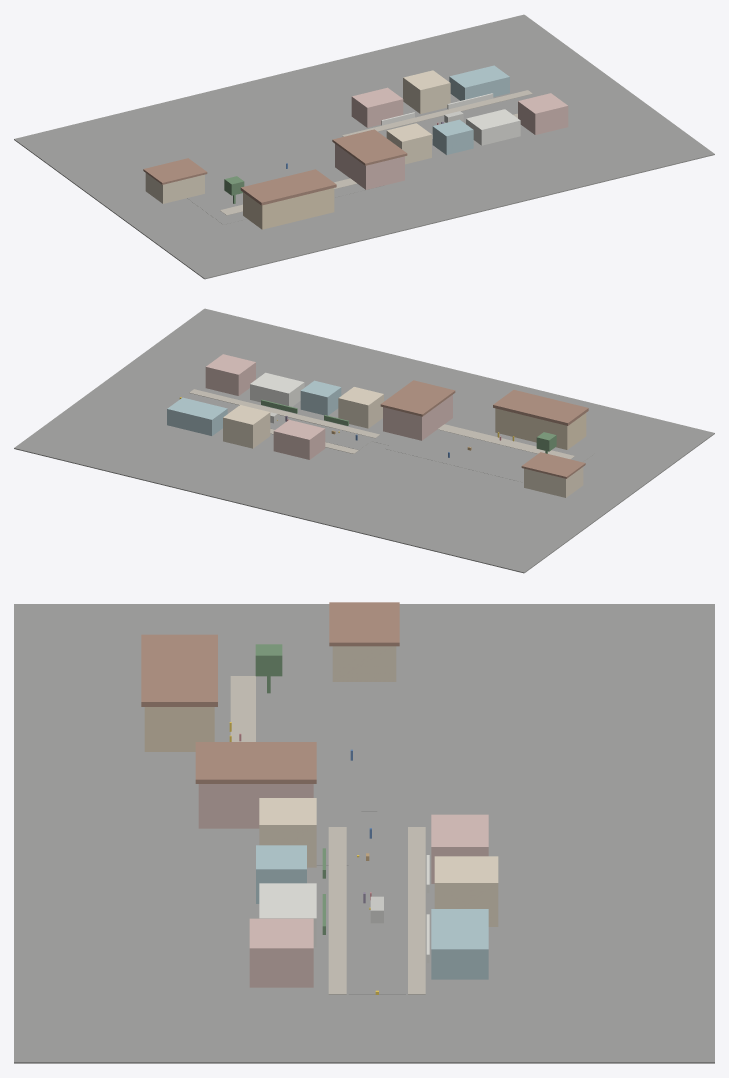
The model's file is ouverture-centre-ville.gltf.
The picture shows the model from 3 angles, top to bottom: view 1: azimuth 30°, elevation 25°; view 2: azimuth 150°, elevation 25°; view 3: azimuth 270°, elevation 25°; orthographic projection. The views are drawn at different scales.
Visible parts, largest first — view 1: ground, school_square, school_main, school_roof, alley_corner_mask, alley_house_south_2, alley_house_recent, alley_house_south_3, alley_corner_roof, alley_house_south_1, alley_house_1970, alley_house_1900 (+5 smaller); view 2: ground, school_square, school_main, school_roof, alley_corner_mask, alley_house_south_2, alley_house_south_3, alley_house_recent, alley_house_south_1, alley_corner_roof, alley_house_1900, alley_house_1970 (+7 smaller); view 3: ground, school_square, alley_road, school_roof, alley_corner_roof, alley_house_recent, alley_house_south_3, alley_house_south_2, alley_corner_mask, square_shop_west_roof, alley_sidewalk_north, alley_sidewalk_south (+9 smaller).
Part boxes in pixels (x1,y1,x2,y2): ground: [14, 14, 714, 279]; school_square: [187, 150, 383, 224]; school_main: [243, 188, 334, 229]; school_roof: [240, 169, 336, 205]; alley_corner_mask: [335, 144, 404, 189]; alley_house_south_2: [403, 70, 450, 113]; alley_house_recent: [518, 93, 568, 134]; alley_house_south_3: [449, 65, 509, 100]; alley_corner_roof: [332, 129, 407, 165]; alley_house_south_1: [351, 87, 403, 127]; alley_house_1970: [466, 109, 520, 145]; alley_house_1900: [386, 123, 431, 164]; ground: [14, 308, 714, 573]; school_square: [385, 418, 595, 482]; school_main: [495, 408, 586, 449]; school_roof: [493, 390, 588, 425]; alley_corner_mask: [383, 395, 452, 440]; alley_house_south_2: [223, 405, 270, 448]; alley_house_south_3: [167, 397, 227, 435]; alley_house_recent: [205, 354, 255, 395]; alley_house_south_1: [273, 419, 325, 459]; alley_corner_roof: [380, 380, 455, 416]; alley_house_1900: [338, 387, 383, 428]; alley_house_1970: [250, 372, 304, 406]; ground: [14, 604, 714, 1063]; school_square: [214, 665, 377, 811]; alley_road: [348, 827, 405, 994]; school_roof: [141, 634, 217, 706]; alley_corner_roof: [195, 742, 316, 783]; alley_house_recent: [249, 918, 313, 987]; alley_house_south_3: [431, 909, 488, 979]; alley_house_south_2: [434, 856, 498, 926]; alley_corner_mask: [198, 784, 313, 828]; square_shop_west_roof: [329, 602, 399, 646]; alley_sidewalk_north: [328, 827, 346, 994]; alley_sidewalk_south: [408, 827, 425, 994].
Size of the model in its own units: 170 by 9.23 by 110.
